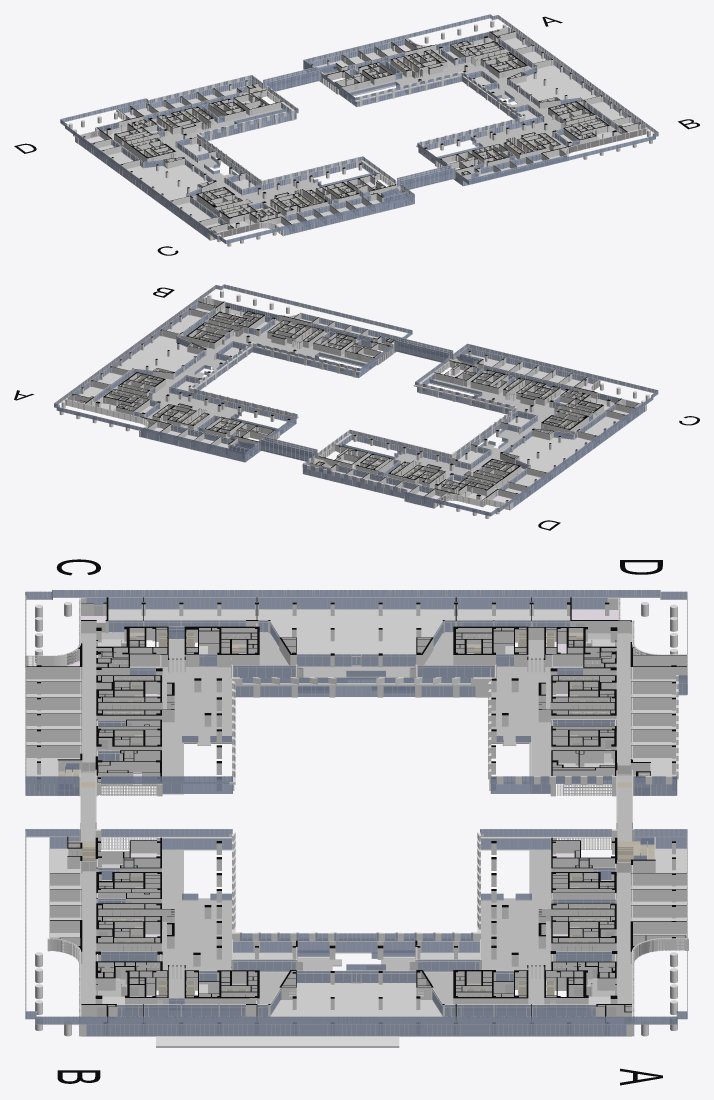
The picture shows the model from 3 angles, top to bottom: view 1: azimuth 30°, elevation 25°; view 2: azimuth 150°, elevation 25°; view 3: azimuth 270°, elevation 25°; orthographic projection. The views are drawn at different scales.
Visible parts, largest first — view 1: 2F-wall, 2F-Window-out, 2F-Floor, 2F-window, 2F-Wall-out, 2F-Pillar, 2F-Handrail, 2F-Elevator, 2F-Door, 2F-Pillar-out, 2F-GlassDoor; view 2: 2F-wall, 2F-Window-out, 2F-Floor, 2F-window, 2F-Wall-out, 2F-Pillar, 2F-Handrail, 2F-Elevator, 2F-Door, 2F-Pillar-out, 2F-GlassDoor; view 3: 2F-Floor, 2F-wall, 2F-Window-out, 2F-window, 2F-Wall-out, 2F-Pillar, 2F-Elevator, 2F-Handrail, 2F-Pillar-out, 2F-Stairs, 2F-Vent, 2F-Door (+4 smaller).
Boxes of the visible parts, bbox=[...] form: 2F-wall: bbox=[91, 29, 640, 233]; 2F-Window-out: bbox=[60, 14, 658, 243]; 2F-Floor: bbox=[86, 38, 638, 235]; 2F-window: bbox=[111, 38, 618, 224]; 2F-Wall-out: bbox=[75, 26, 647, 240]; 2F-Pillar: bbox=[83, 31, 641, 230]; 2F-Handrail: bbox=[204, 65, 514, 197]; 2F-Elevator: bbox=[126, 49, 596, 212]; 2F-Door: bbox=[107, 36, 622, 232]; 2F-Pillar-out: bbox=[68, 20, 652, 246]; 2F-GlassDoor: bbox=[111, 39, 617, 223]; 2F-wall: bbox=[72, 301, 639, 503]; 2F-Window-out: bbox=[54, 284, 658, 516]; 2F-Floor: bbox=[74, 308, 628, 507]; 2F-window: bbox=[94, 308, 615, 493]; 2F-Wall-out: bbox=[64, 296, 646, 510]; 2F-Pillar: bbox=[71, 301, 634, 502]; 2F-Handrail: bbox=[194, 352, 508, 459]; 2F-Elevator: bbox=[116, 319, 590, 484]; 2F-Door: bbox=[89, 306, 636, 497]; 2F-Pillar-out: bbox=[59, 290, 649, 518]; 2F-GlassDoor: bbox=[94, 310, 614, 491]; 2F-Floor: bbox=[26, 609, 686, 1036]; 2F-wall: bbox=[26, 597, 686, 1034]; 2F-Window-out: bbox=[25, 590, 687, 1036]; 2F-window: bbox=[57, 620, 655, 1016]; 2F-Wall-out: bbox=[25, 597, 688, 1047]; 2F-Pillar: bbox=[36, 602, 676, 1034]; 2F-Elevator: bbox=[104, 632, 608, 995]; 2F-Handrail: bbox=[65, 670, 653, 970]; 2F-Pillar-out: bbox=[35, 602, 677, 1036]; 2F-Stairs: bbox=[58, 632, 654, 985]; 2F-Vent: bbox=[28, 600, 684, 1016]; 2F-Door: bbox=[82, 605, 630, 1016].
Bounding box in the file's own units: 280 × 8.32 × 149.
